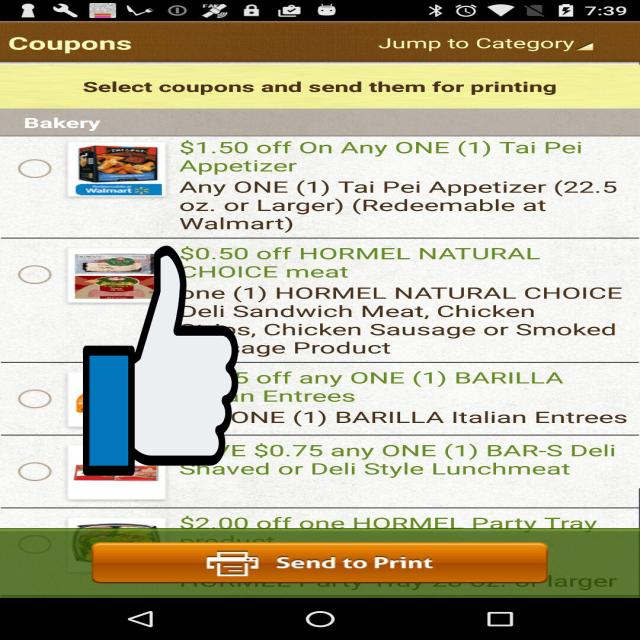privacy zuckering: (83, 240, 238, 480)
